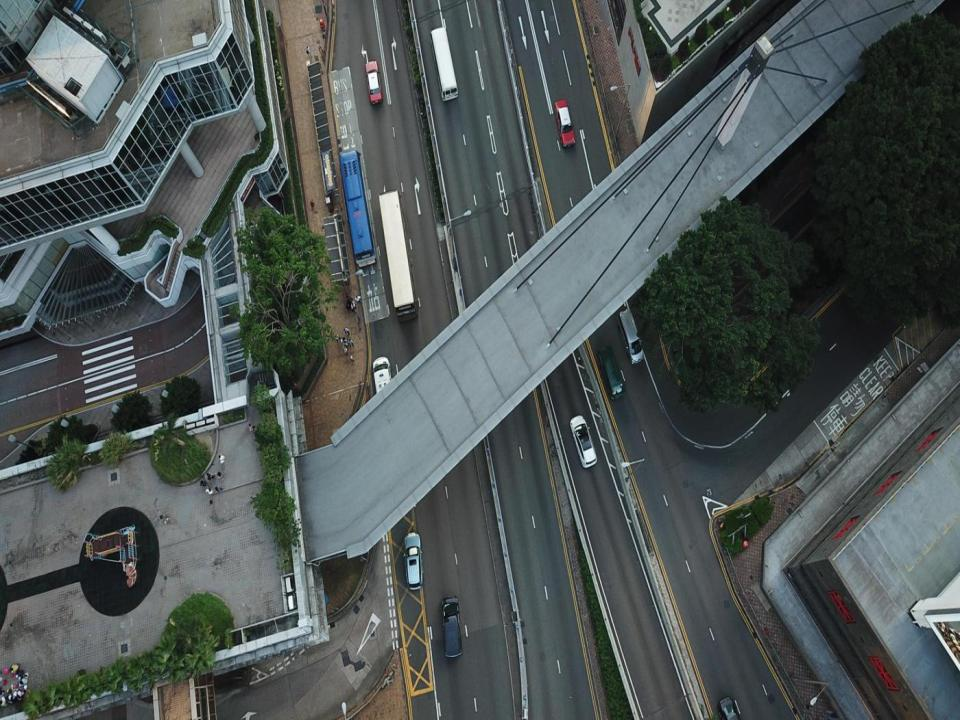bus: (377, 191, 421, 319), (338, 148, 375, 270), (428, 26, 460, 100)
car: (440, 593, 464, 667), (568, 414, 594, 466), (370, 356, 396, 406), (554, 100, 576, 149), (404, 534, 423, 588), (366, 61, 386, 104)
van: (594, 344, 625, 397), (618, 306, 646, 362)
